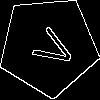V: (23, 21, 79, 73)
